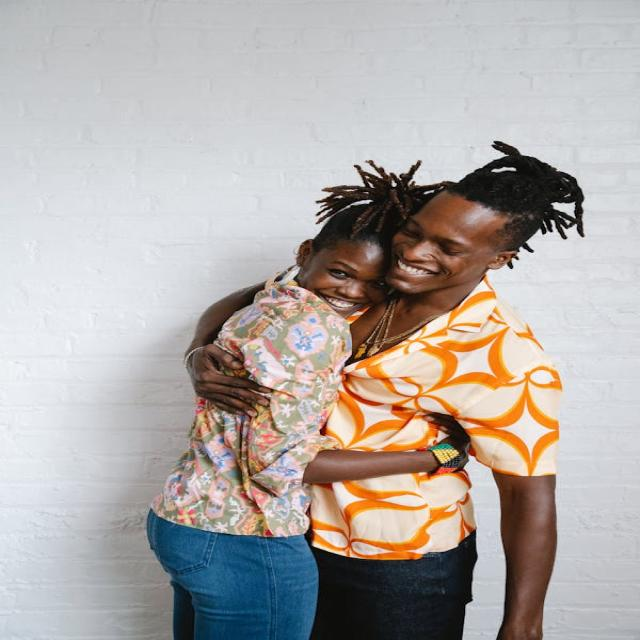Real human 2: (139, 137, 610, 640)
